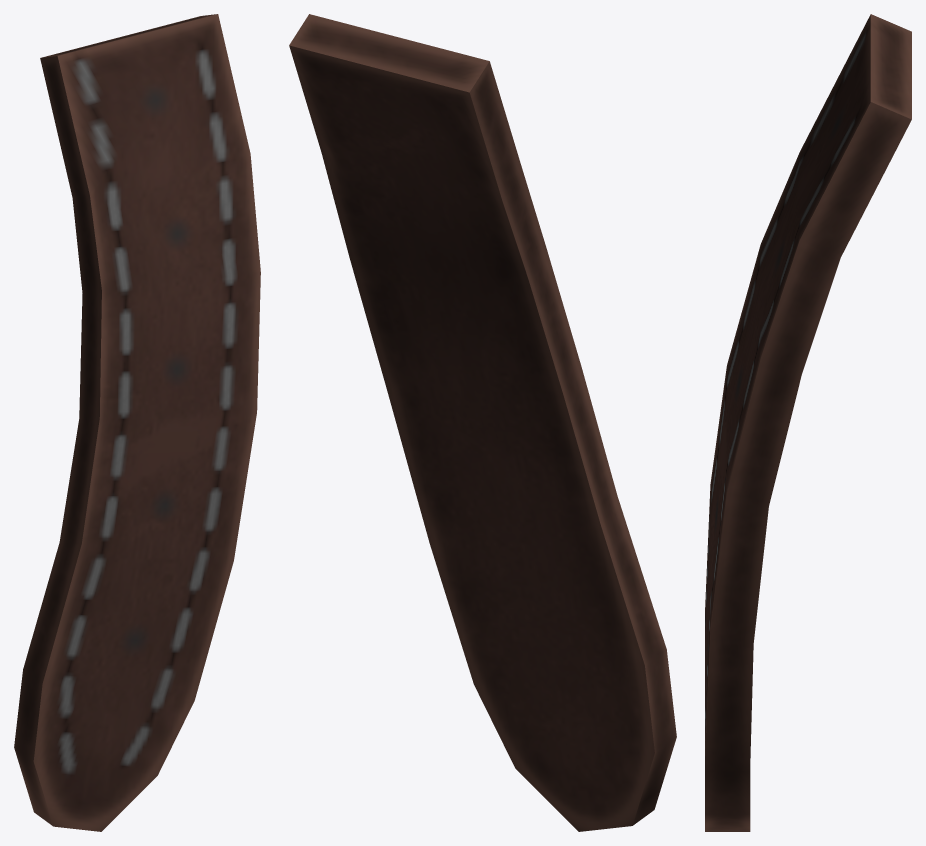
File: StrapEnd_SwingLeft.fbx
The picture shows the model from 3 angles, left to right: view 1: azimuth 30°, elevation 25°; view 2: azimuth 150°, elevation 25°; view 3: azimuth 270°, elevation 25°; orthographic projection. The views are drawn at different scales.
Visible parts, largest first — view 1: StrapEnd_SwingLeft_LOD0; view 2: StrapEnd_SwingLeft_LOD0; view 3: StrapEnd_SwingLeft_LOD0.
Part boxes in pixels (x1=…): StrapEnd_SwingLeft_LOD0: x1=14, y1=14, x2=260, y2=831; StrapEnd_SwingLeft_LOD0: x1=289, y1=14, x2=676, y2=831; StrapEnd_SwingLeft_LOD0: x1=705, y1=14, x2=911, y2=831.
Size of what is drawn, in the model's own units: 22.49 by 59.97 by 13.44.
